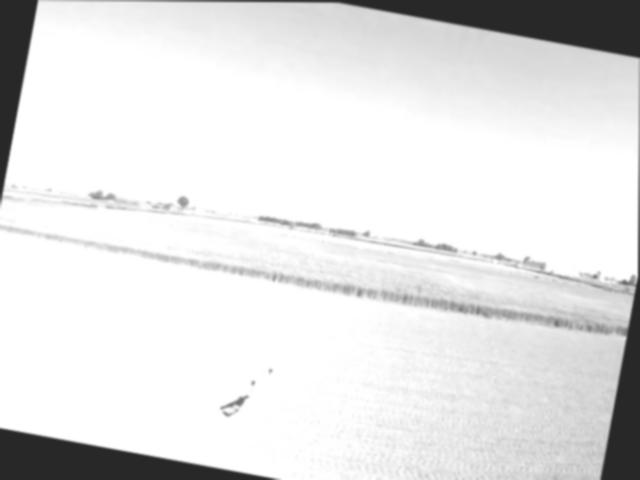hedef: (230, 339, 299, 406)
